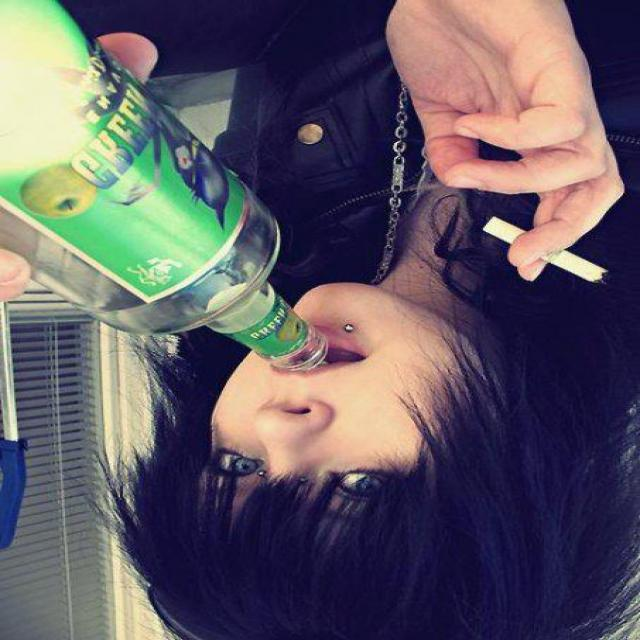cigarette: (459, 213, 626, 291)
